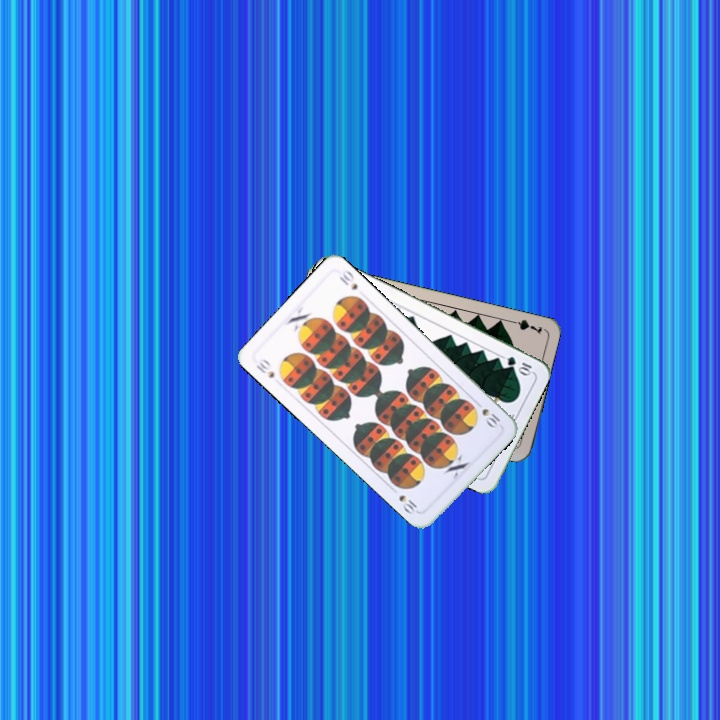G10: (503, 352, 535, 377)
G7: (505, 315, 545, 337)
S10: (478, 404, 503, 431), (252, 355, 277, 381)
